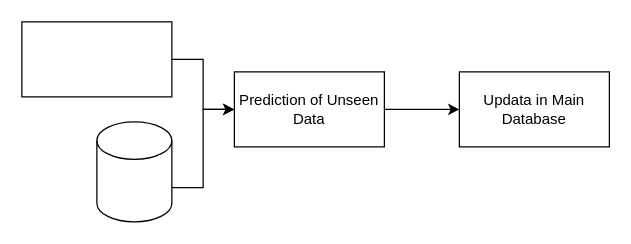
This 631x244 diagram has some shape labels left out. The box of each missing label's shape, as (x1, y1, x2, y2) in pixels:
Trained Ensemble Model: (21, 21, 172, 97)
Unseen data: (96, 121, 172, 222)
